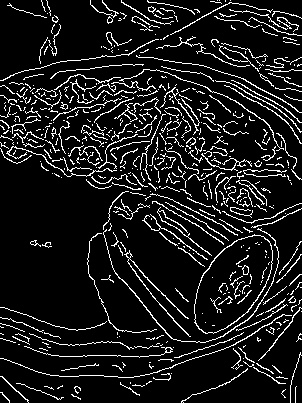cucumber: (93, 188, 282, 336)
